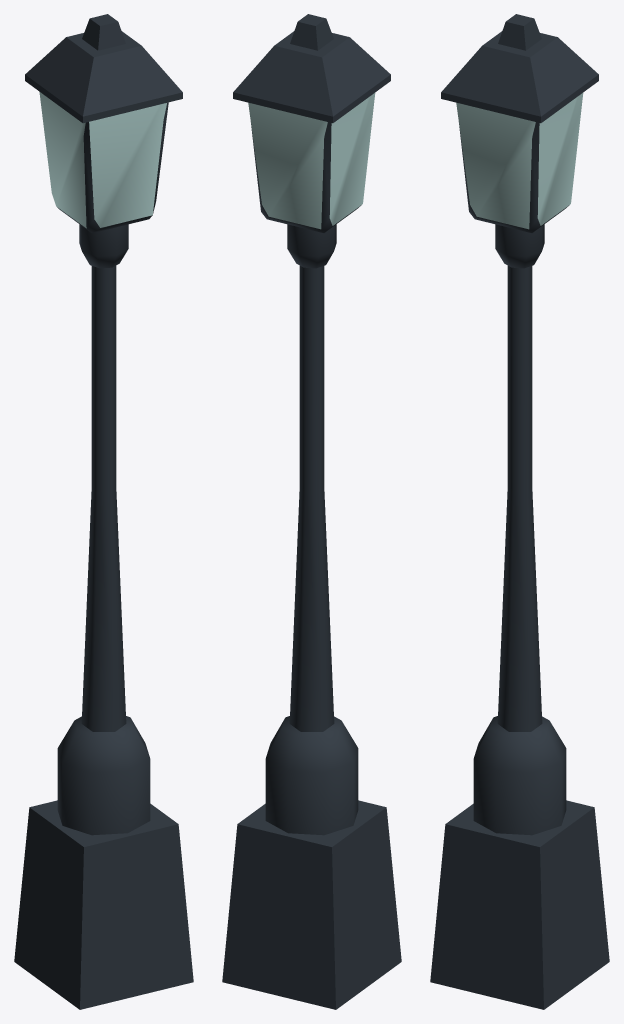
Rendered from ParkLamp.gltf.
3 renders of one model, left to right at view 1: azimuth 30°, elevation 25°; view 2: azimuth 150°, elevation 25°; view 3: azimuth 330°, elevation 25°, orthographic.
Visible parts, largest first — view 1: ParkLamp; view 2: ParkLamp; view 3: ParkLamp.
Boxes of the visible parts, x1,y1,x2,y2 form: ParkLamp: (14, 14, 193, 1009); ParkLamp: (222, 14, 401, 1009); ParkLamp: (430, 14, 609, 1009).
Size of the model in its own units: 0.2233 by 1.78 by 0.2233.
